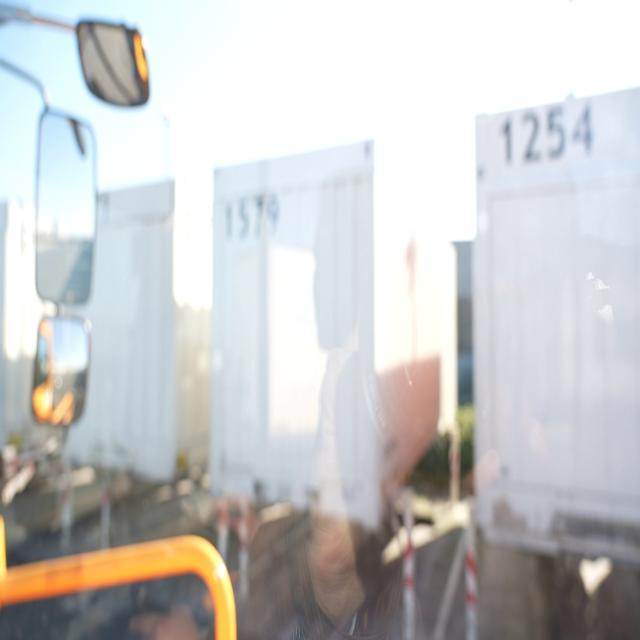Code: (496, 103, 596, 171), (219, 184, 285, 250)
